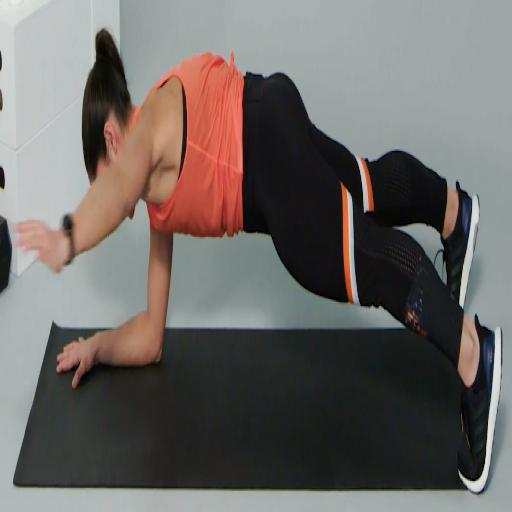Normal_Dips: (0, 34, 512, 495)
